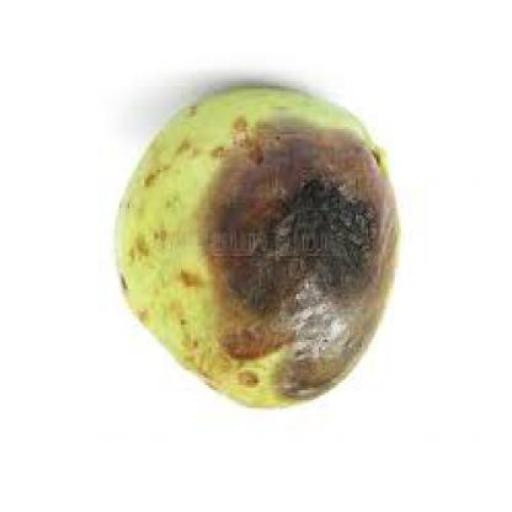biodegradable: (115, 89, 397, 411)
